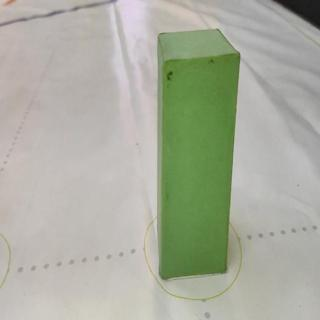greenbox: (157, 29, 241, 278)
